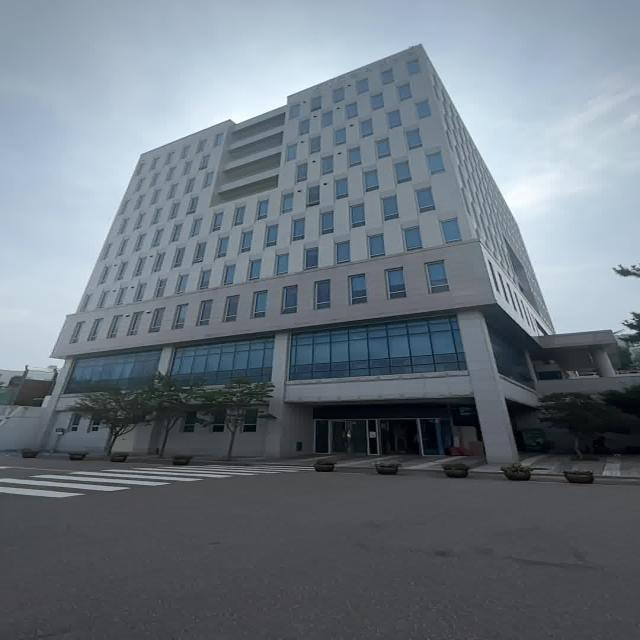building: (71, 44, 575, 384)
